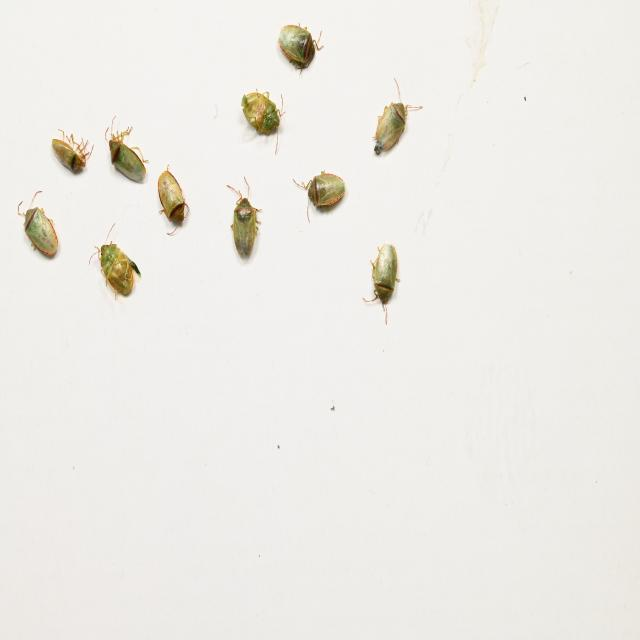stinkbug: (226, 176, 262, 262), (105, 114, 148, 184), (293, 169, 345, 224), (16, 190, 58, 258), (276, 21, 324, 75), (157, 162, 190, 238), (51, 127, 94, 175)
